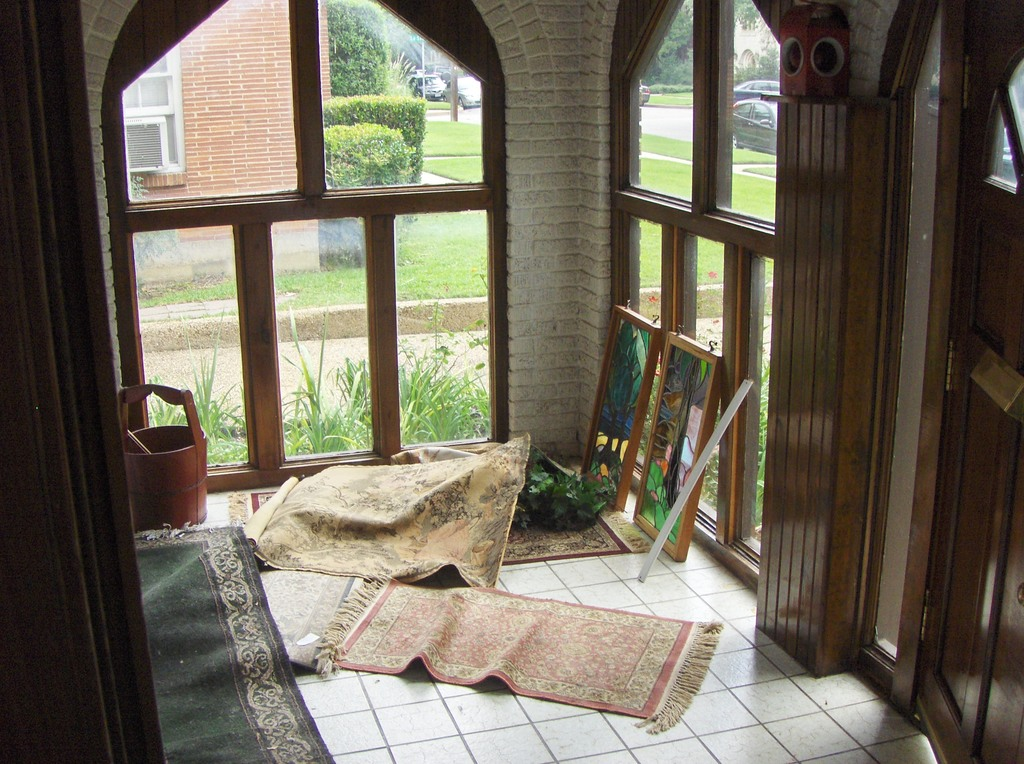Door: (0, 0, 126, 763), (921, 0, 1023, 761)
